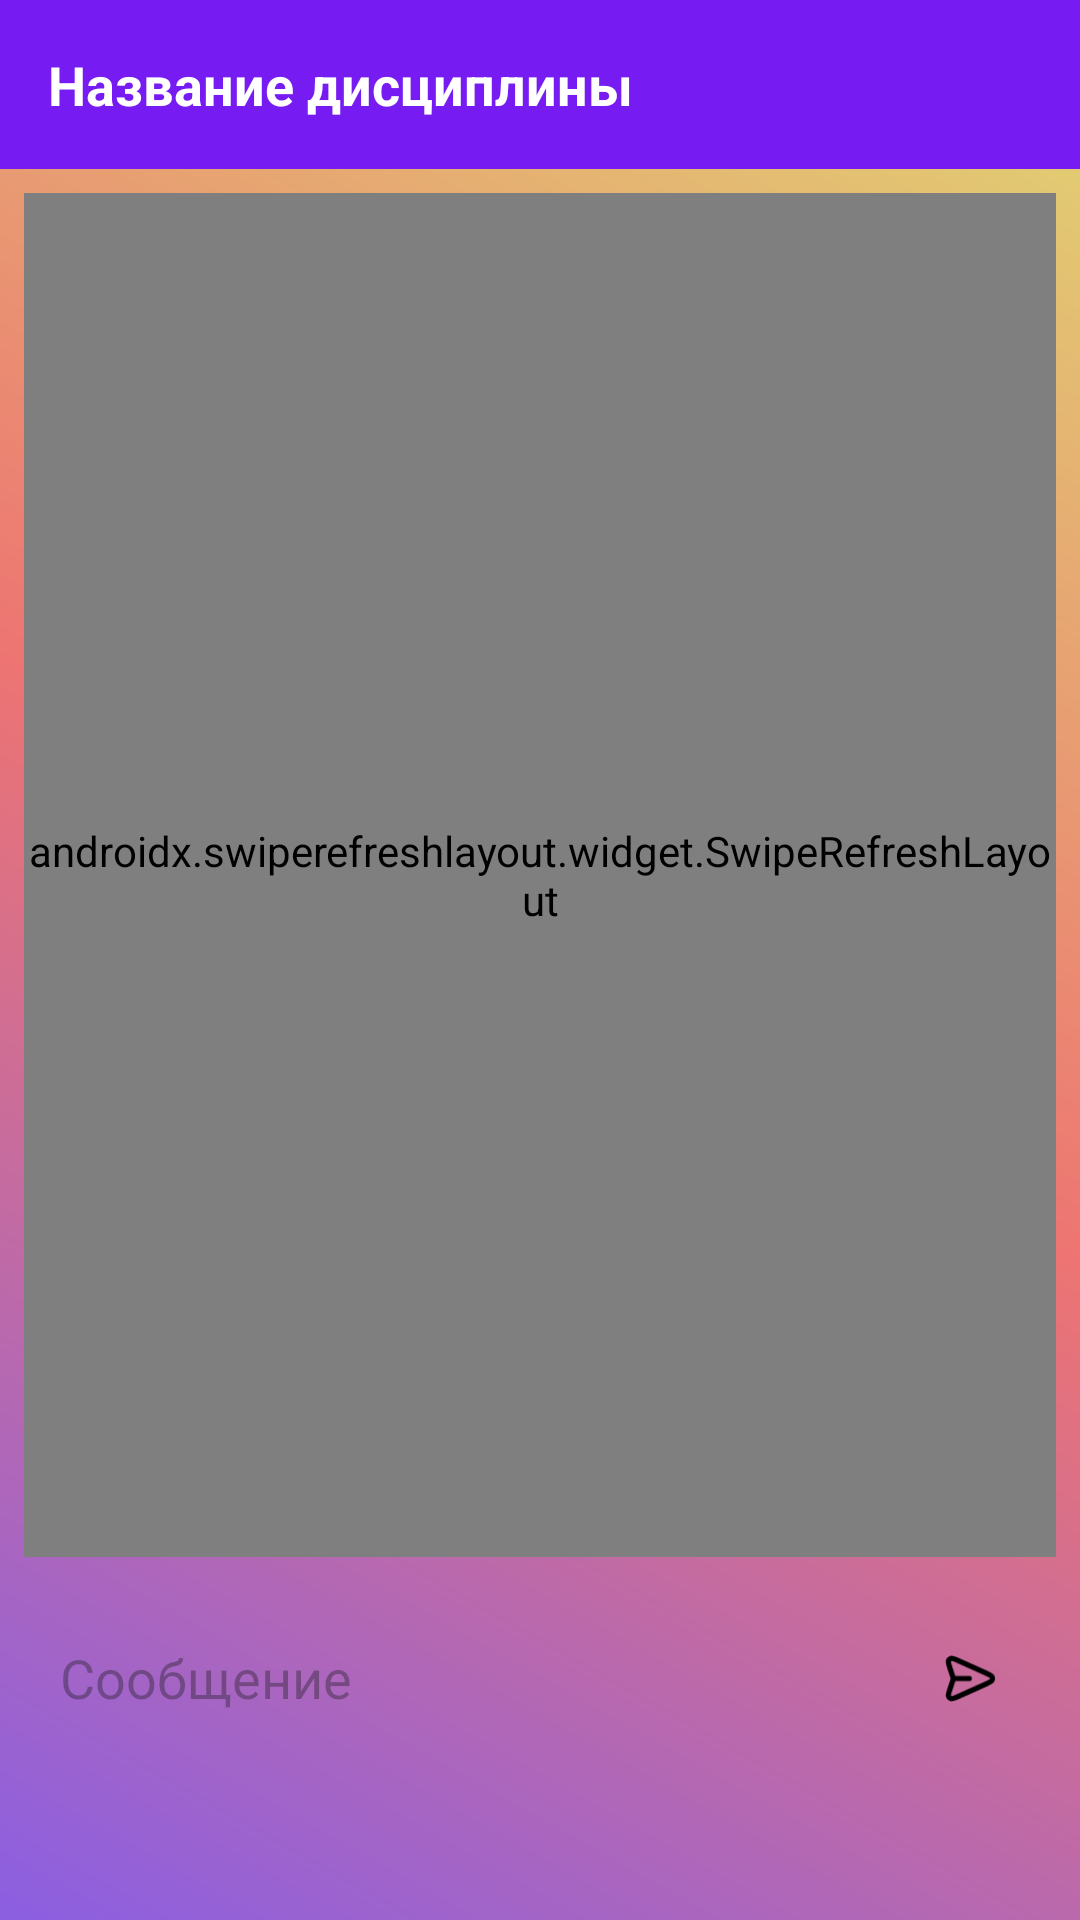

Where icons sit on this 1080*1920 app screen, as (x1, y1, x2, y2):
send: (945, 1655, 995, 1702)
